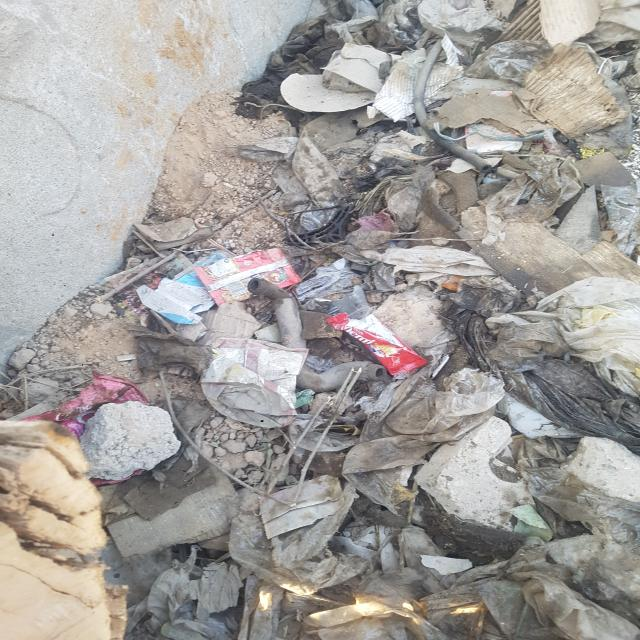electronic: (325, 291, 427, 380), (195, 247, 302, 306)
